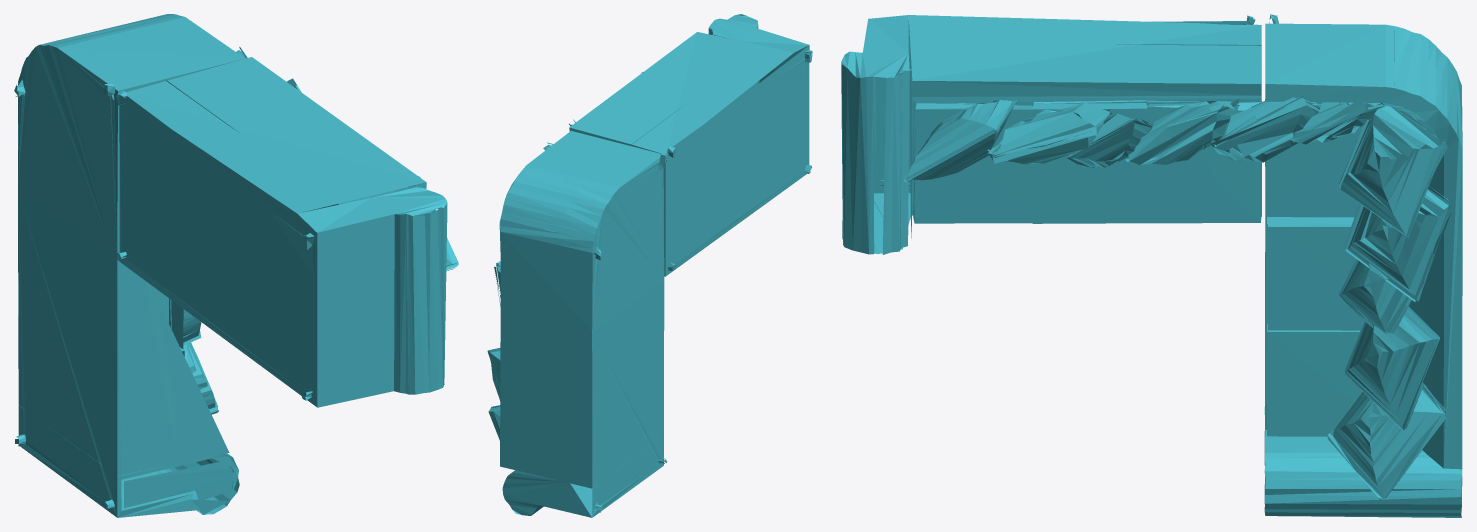
3 renders of one model, left to right at view 1: azimuth 30°, elevation 25°; view 2: azimuth 150°, elevation 25°; view 3: azimuth 270°, elevation 25°, orthographic. The views are drawn at different scales.
Parts seen in each view (by area): view 1: Renderer Node; view 2: Renderer Node; view 3: Renderer Node.
Boxes of the visible parts, x1,y1,x2,y2 form: Renderer Node: [14, 14, 458, 517]; Renderer Node: [487, 14, 812, 517]; Renderer Node: [841, 14, 1462, 517].
Size of the model in its own units: 0.2475 by 0.6173 by 0.7644.
1 material, 1 textured.
